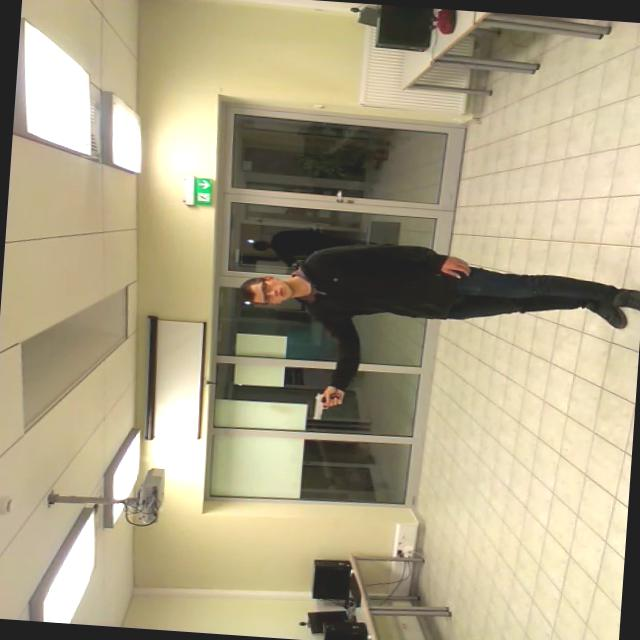handgun: (302, 382, 352, 426)
